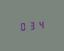four: (37, 19, 45, 29)
three: (28, 20, 36, 30)
zero: (18, 21, 26, 31)
